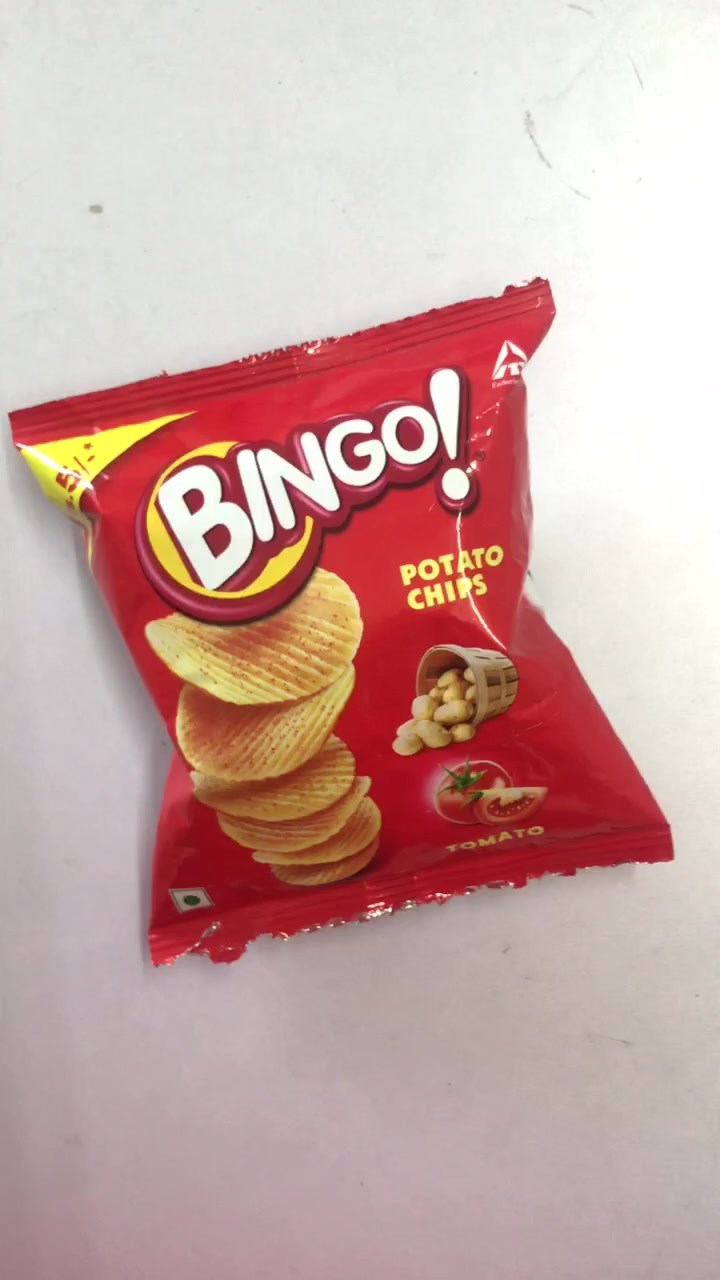Bingo: (10, 285, 669, 945)
